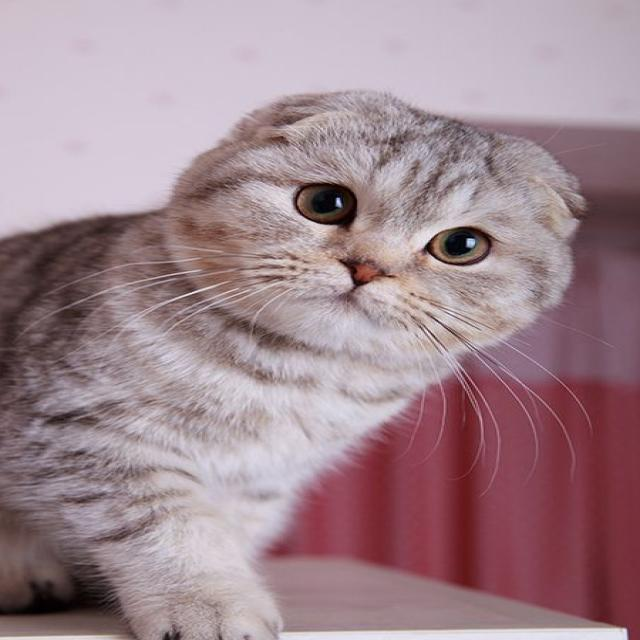Scottish Fold: (0, 82, 597, 639)
